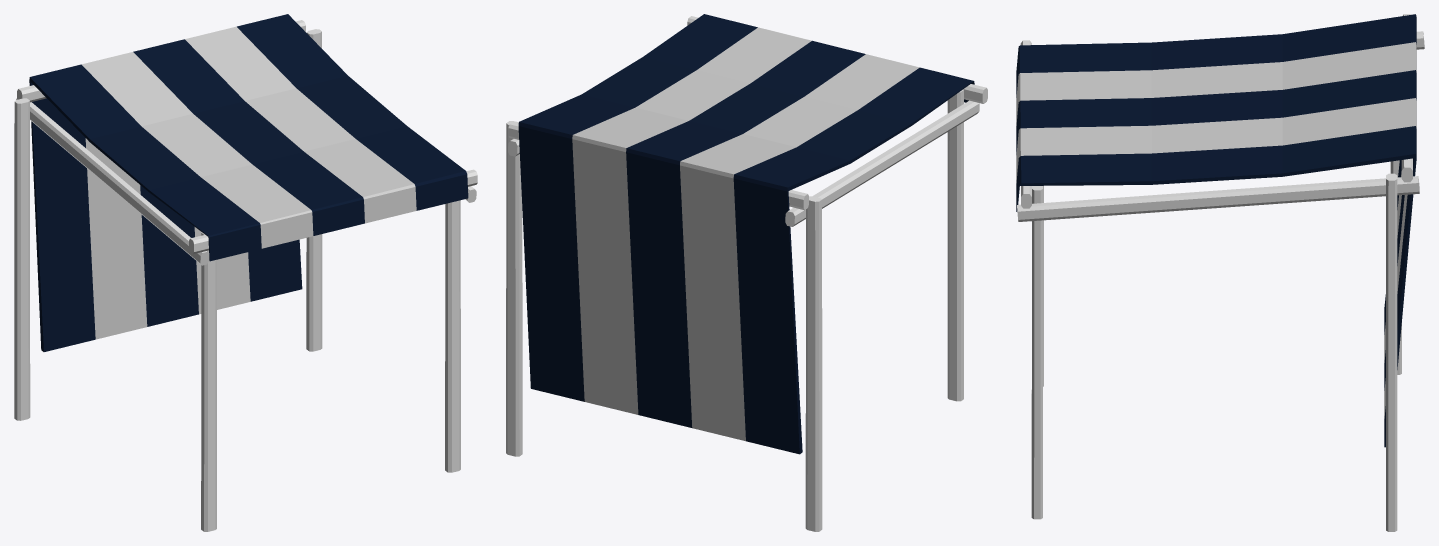
File: MarketStall03.fbx
The picture shows the model from 3 angles, left to right: view 1: azimuth 30°, elevation 25°; view 2: azimuth 150°, elevation 25°; view 3: azimuth 270°, elevation 25°; orthographic projection. The views are drawn at different scales.
Visible parts, largest first — view 1: z, Box005, Box003, Box002, Box008, Box004; view 2: z, Box005, Box004, Box003, Box008; view 3: z, Box009, Box004, Box002.
Part boxes in pixels (x1,y1,x2,y2): z: (29, 14, 468, 351); Box005: (14, 98, 30, 420); Box003: (201, 232, 216, 531); Box002: (445, 200, 460, 472); Box008: (16, 98, 209, 265); Box004: (306, 29, 322, 351); z: (518, 14, 974, 454); Box005: (805, 196, 822, 531); Box004: (506, 121, 522, 456); Box003: (947, 89, 963, 401); Box008: (785, 100, 979, 226); z: (1016, 14, 1416, 447); Box009: (1017, 176, 1419, 221); Box004: (1386, 173, 1397, 531); Box002: (1031, 186, 1042, 519).
Bounding box in the file's own units: 263 × 274 × 277.
